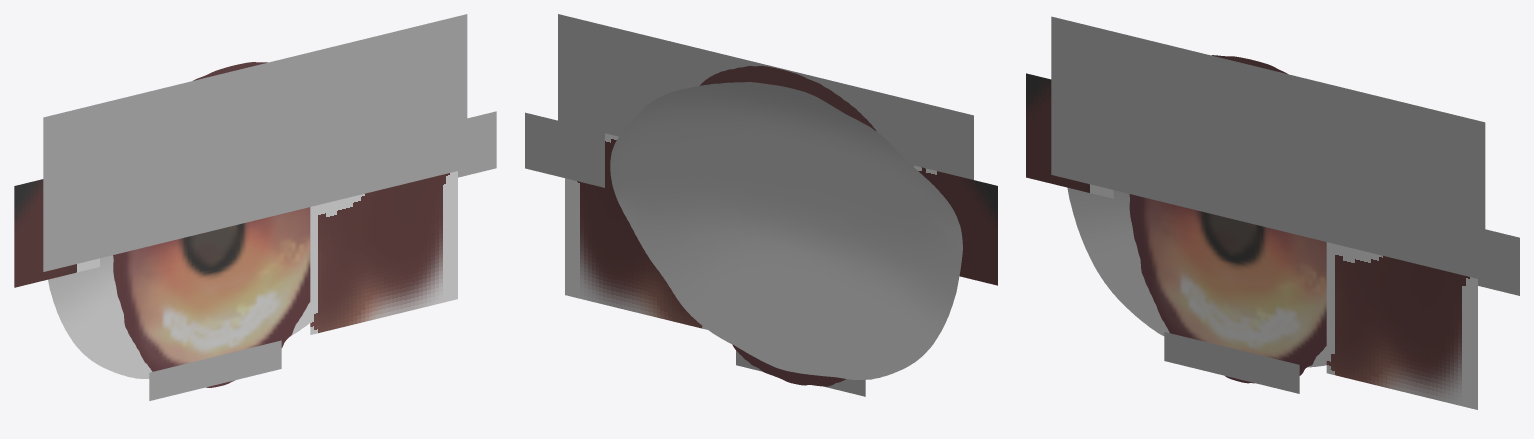
The model's file is leftEye1M.dae.
The picture shows the model from 3 angles, left to right: view 1: azimuth 30°, elevation 25°; view 2: azimuth 150°, elevation 25°; view 3: azimuth 330°, elevation 25°; orthographic projection. The views are drawn at different scales.
Visible parts, largest first — view 1: UpperEyelidTopL, PupilRL, UpperEyelidSideL, EyeWhiteL, BottomEyelidL, UpperEyelidTopL.001, UpperEyelidSideEndL; view 2: EyeWhiteL, UpperEyelidTopL, UpperEyelidSideL, UpperEyelidTopL.001, UpperEyelidSideEndL, PupilRL, BottomEyelidL; view 3: UpperEyelidTopL, PupilRL, UpperEyelidSideL, EyeWhiteL, BottomEyelidL, UpperEyelidTopL.001, UpperEyelidSideEndL.
Boxes of the visible parts, left/top/right/bottom form: UpperEyelidTopL: left=43, top=14, right=467, bottom=271; PupilRL: left=113, top=62, right=310, bottom=387; UpperEyelidSideL: left=310, top=171, right=457, bottom=334; EyeWhiteL: left=48, top=255, right=310, bottom=378; BottomEyelidL: left=149, top=340, right=281, bottom=400; UpperEyelidTopL.001: left=14, top=179, right=99, bottom=287; UpperEyelidSideEndL: left=458, top=111, right=496, bottom=177; EyeWhiteL: left=610, top=82, right=962, bottom=379; UpperEyelidTopL: left=558, top=14, right=973, bottom=179; UpperEyelidSideL: left=565, top=133, right=707, bottom=329; UpperEyelidTopL.001: left=914, top=165, right=997, bottom=285; UpperEyelidSideEndL: left=525, top=112, right=604, bottom=187; PupilRL: left=700, top=66, right=876, bottom=386; BottomEyelidL: left=736, top=350, right=865, bottom=396; UpperEyelidTopL: left=1051, top=16, right=1485, bottom=280; PupilRL: left=1129, top=55, right=1326, bottom=383; UpperEyelidSideL: left=1326, top=242, right=1477, bottom=409; EyeWhiteL: left=1067, top=187, right=1326, bottom=367; BottomEyelidL: left=1164, top=332, right=1299, bottom=393; UpperEyelidTopL.001: left=1026, top=73, right=1113, bottom=198; UpperEyelidSideEndL: left=1478, top=229, right=1519, bottom=295.
Bounding box in the file's own units: 2.48 × 0.05 × 1.6.
